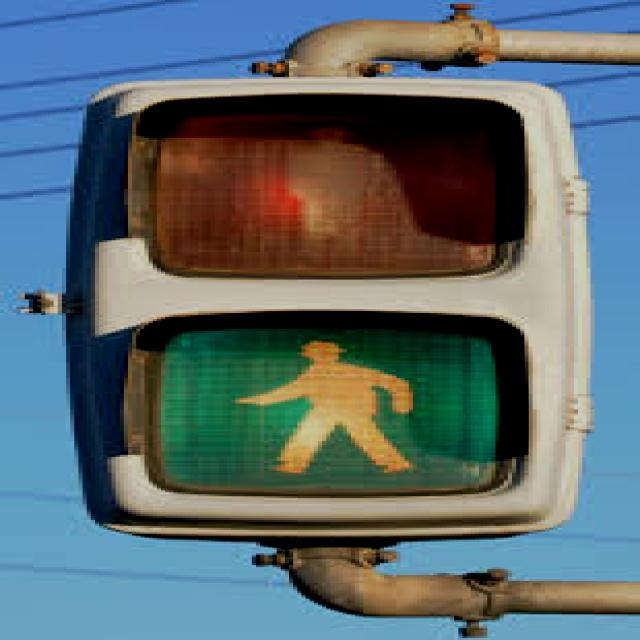trafficlight: (62, 80, 582, 538)
